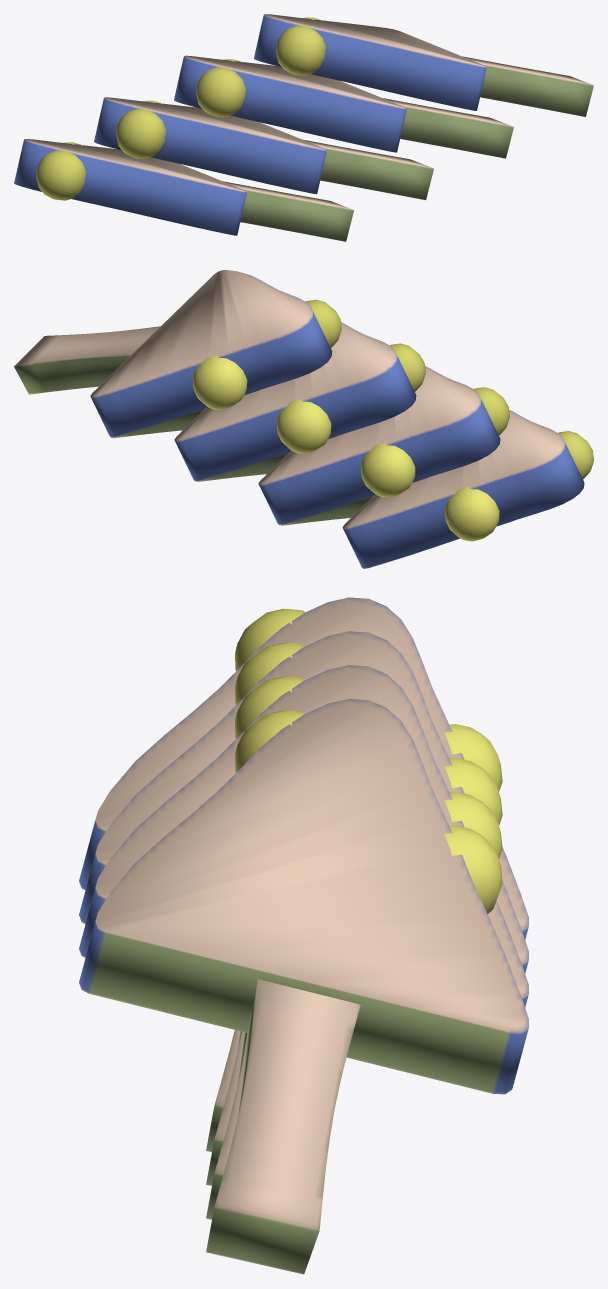
File: Estranho_cortado.fbx
The picture shows the model from 3 angles, top to bottom: view 1: azimuth 30°, elevation 25°; view 2: azimuth 150°, elevation 25°; view 3: azimuth 270°, elevation 25°; orthographic projection. The views are drawn at different scales.
Visible parts, largest first — view 1: Estranho_cortado; view 2: Estranho_cortado; view 3: Estranho_cortado.
Part boxes in pixels (<box>): Estranho_cortado: <box>14,14,593,241</box>; Estranho_cortado: <box>14,270,593,568</box>; Estranho_cortado: <box>79,597,528,1274</box>.
Size of the model in its own units: 237 by 90.01 by 84.53.
